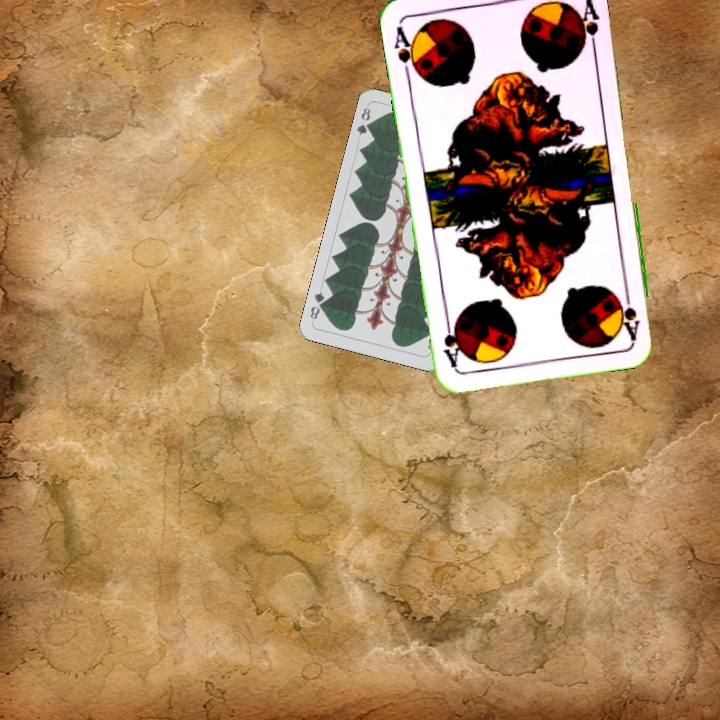G8: (353, 104, 376, 138)
SA: (390, 23, 422, 82), (615, 282, 643, 342)
